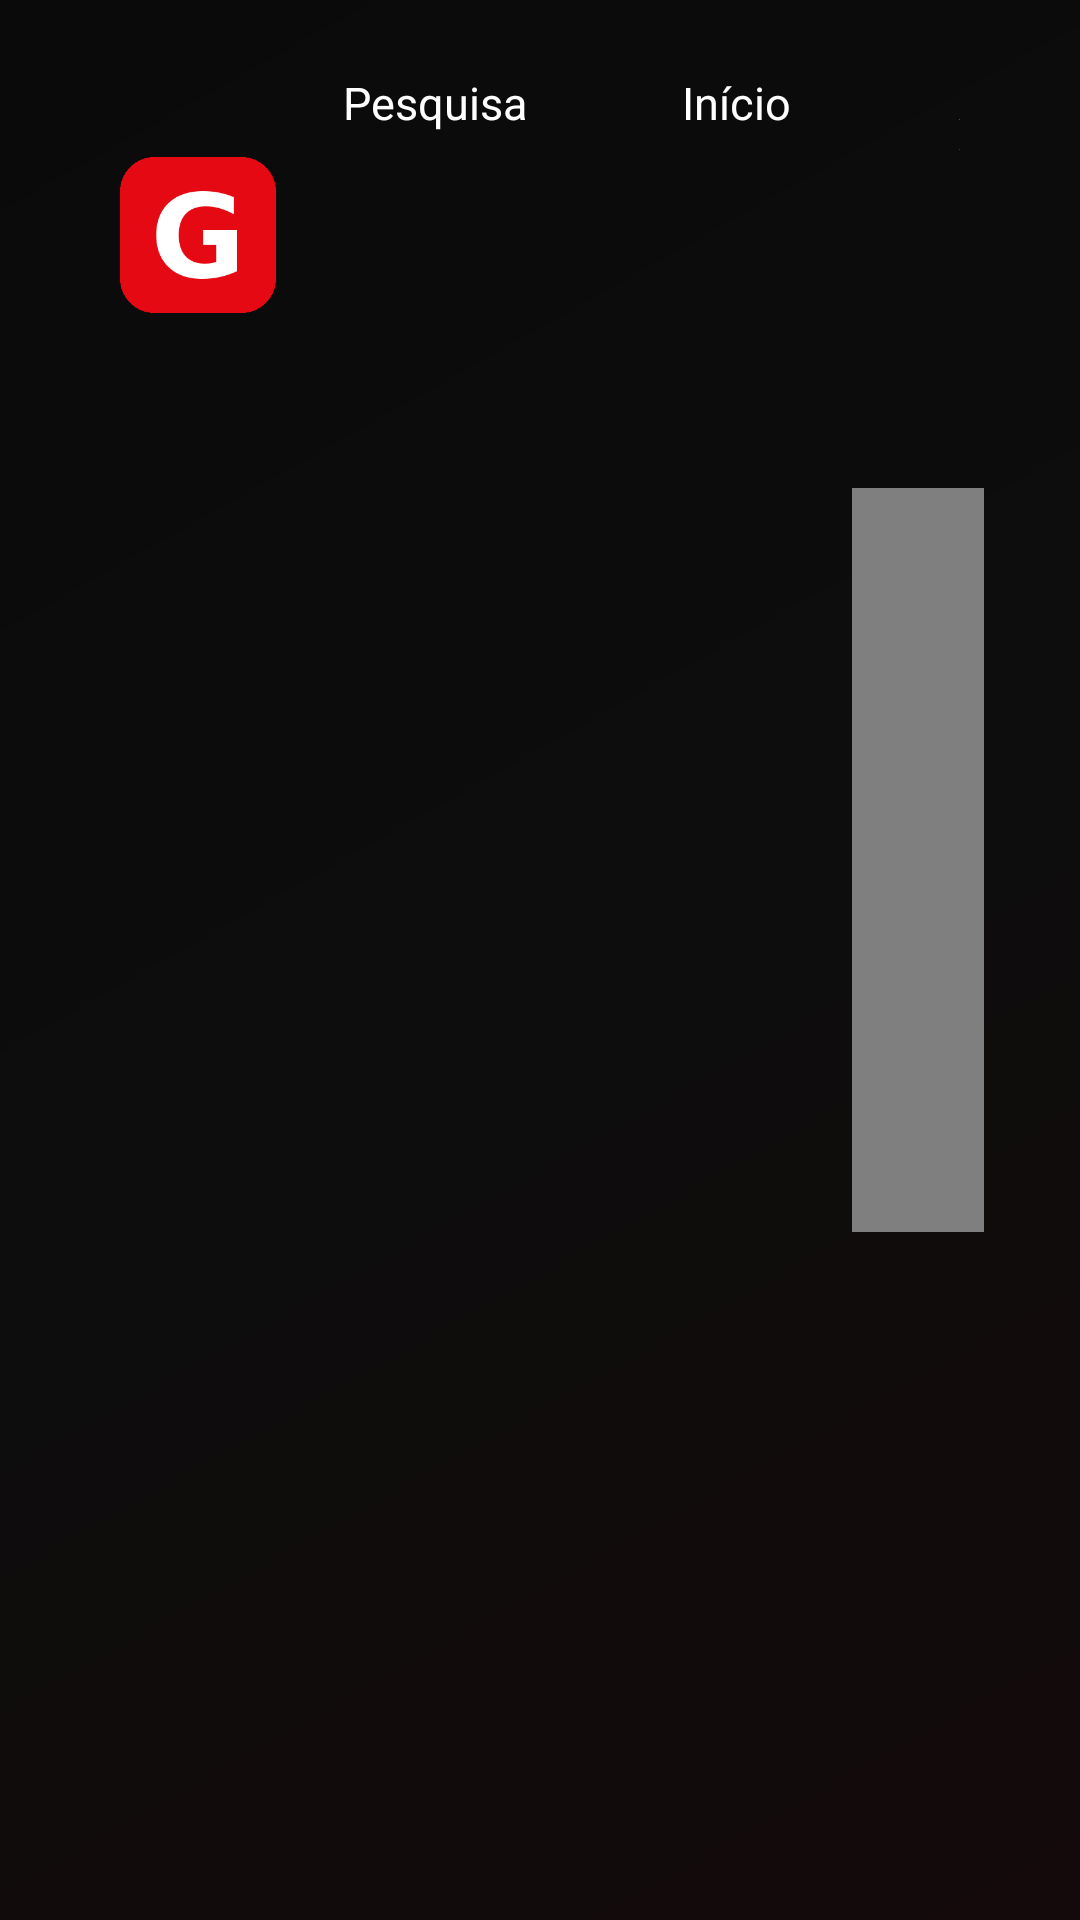

Named icons in this screenshot (1080×1920) and their bounding boxes, (x1=x1, y1=y1, x2=x2, y2=y2):
gamaflix: (x1=120, y1=157, x2=276, y2=313)
